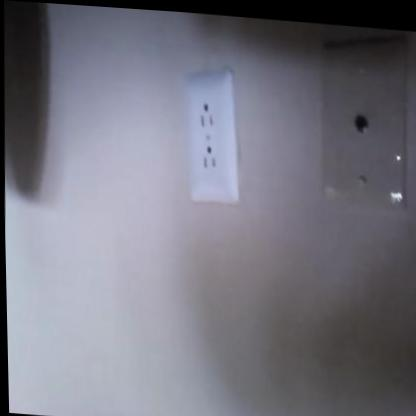OUTLET: (182, 68, 240, 204)
